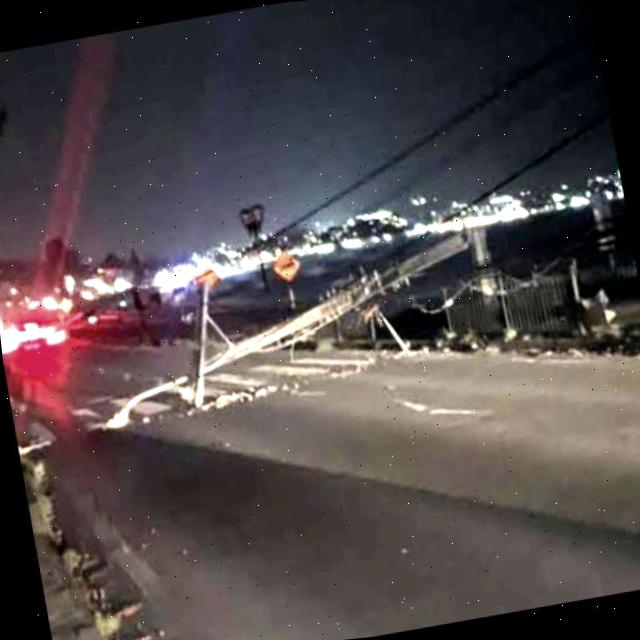Broken Pole: (104, 220, 491, 433)
